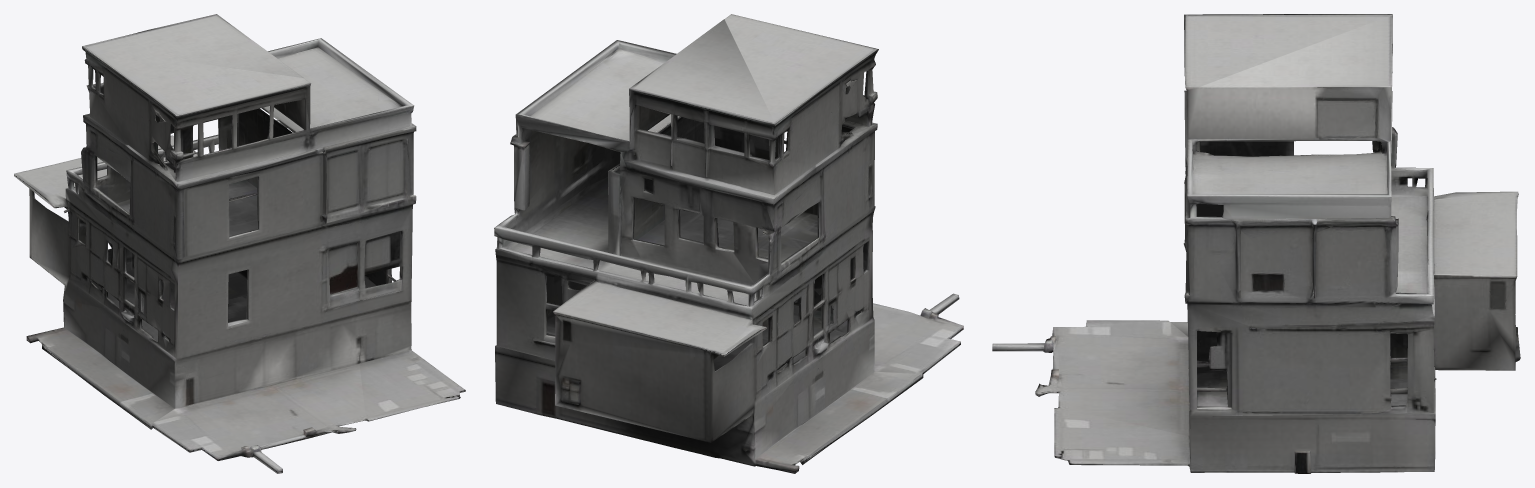
File: clinic.glb
The picture shows the model from 3 angles, left to right: view 1: azimuth 30°, elevation 25°; view 2: azimuth 150°, elevation 25°; view 3: azimuth 270°, elevation 25°; orthographic projection. The views are drawn at different scales.
Parts seen in each view (by area): view 1: clinic; view 2: clinic; view 3: clinic.
Part boxes in pixels (left/top/right/bottom): clinic: left=14, top=14, right=465, bottom=473; clinic: left=494, top=14, right=963, bottom=473; clinic: left=992, top=14, right=1520, bottom=473.
Size of the model in its own units: 0.6826 by 0.6926 by 0.9995.
1 material, 1 textured.
